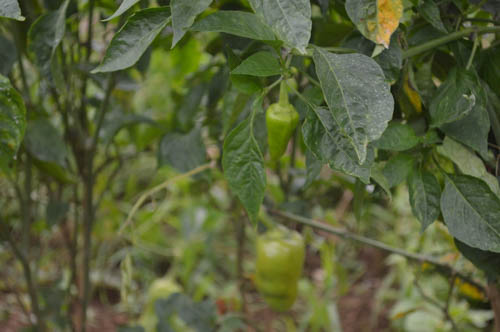ChiliPepper: (254, 234, 306, 317), (259, 107, 302, 165)
